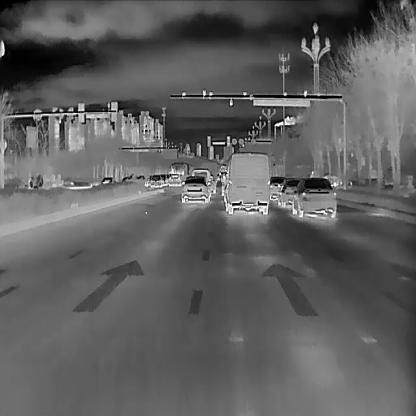car: (222, 151, 269, 214), (292, 176, 335, 220), (181, 174, 209, 205), (278, 178, 300, 209), (192, 166, 211, 191), (168, 158, 189, 179), (271, 176, 288, 201), (166, 173, 182, 189), (148, 173, 163, 189)
